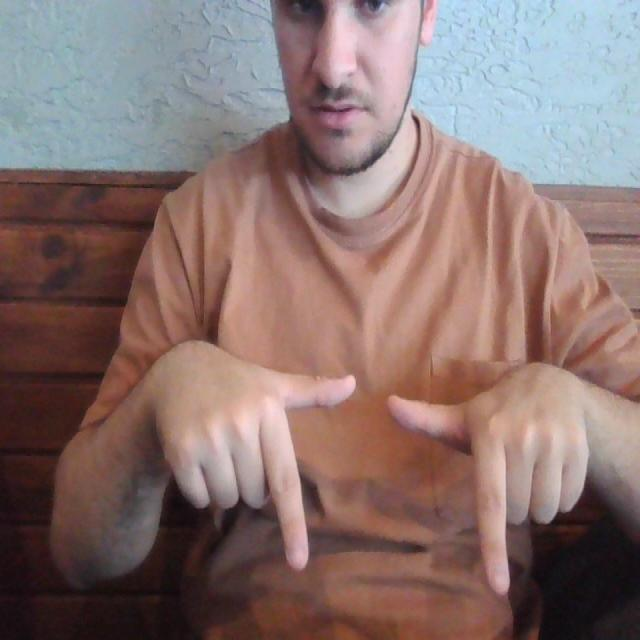Nerede: (241, 368, 521, 618)
